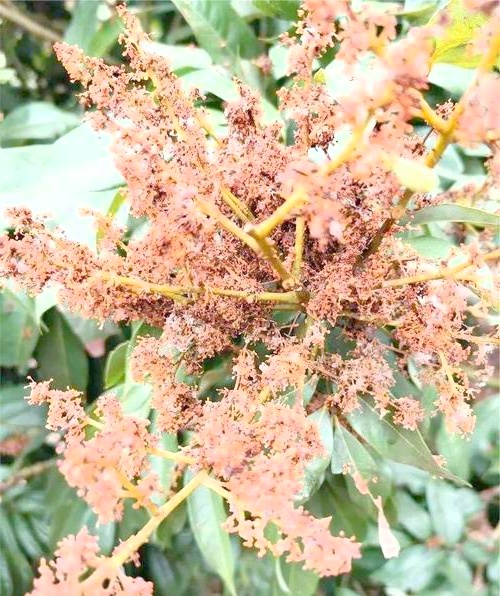Anthracnose: (54, 21, 494, 549)
